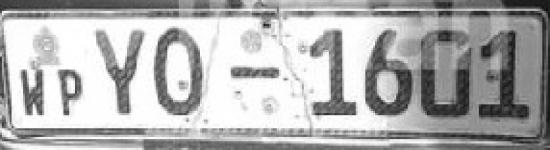-: (229, 66, 280, 79)
0: (422, 29, 471, 117)
1: (478, 33, 533, 117), (310, 30, 357, 113)
6: (367, 29, 412, 115)
O: (154, 29, 204, 113)
P: (57, 69, 82, 111)
W: (20, 67, 46, 115)
Y: (97, 30, 144, 113)
